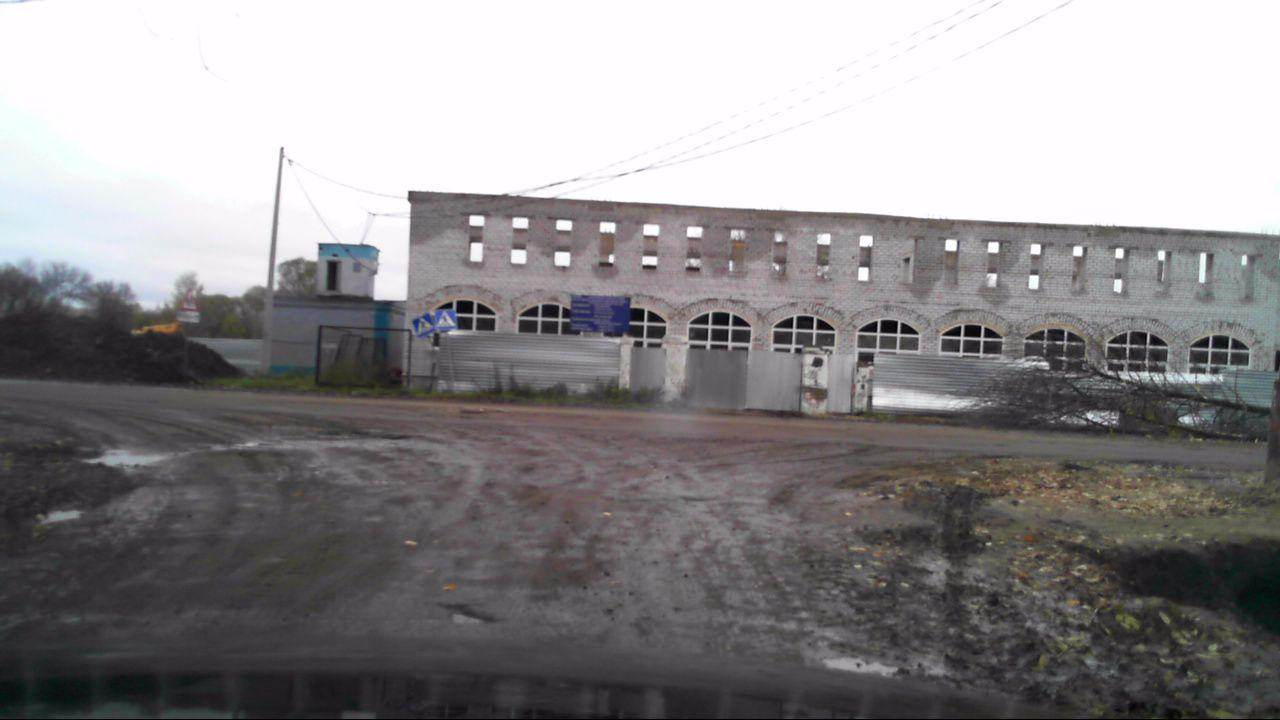pothole: (440, 602, 507, 625)
road_sign: (433, 308, 460, 332)
